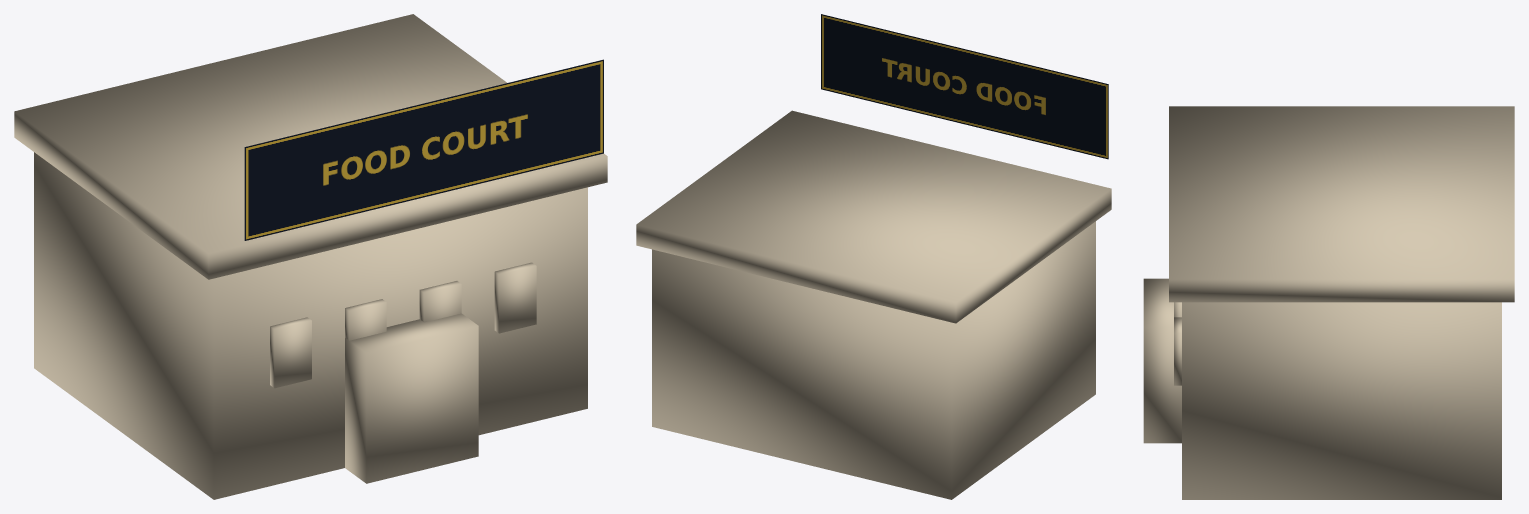
File: food-court.glb
3 views of the same model, side by side, from view 1: azimuth 30°, elevation 25°; view 2: azimuth 150°, elevation 25°; view 3: azimuth 270°, elevation 25° (orthographic). The views are drawn at different scales.
Parts seen in each view (by area): view 1: Model, Sign; view 2: Model, Sign; view 3: Model.
Boxes of the visible parts, bbox=[...] form: Model: bbox=[14, 14, 607, 499]; Sign: bbox=[244, 59, 603, 240]; Model: bbox=[636, 110, 1111, 499]; Sign: bbox=[821, 14, 1108, 159]; Model: bbox=[1143, 106, 1514, 499].
Bounding box in the file's own units: 6.4 × 5.64 × 5.85.
Materials: 1 (1 with a texture image).
